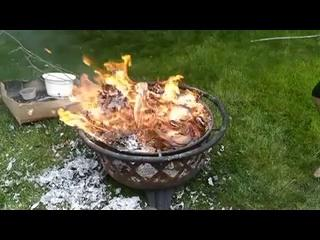Fire: (70, 68, 189, 138)
